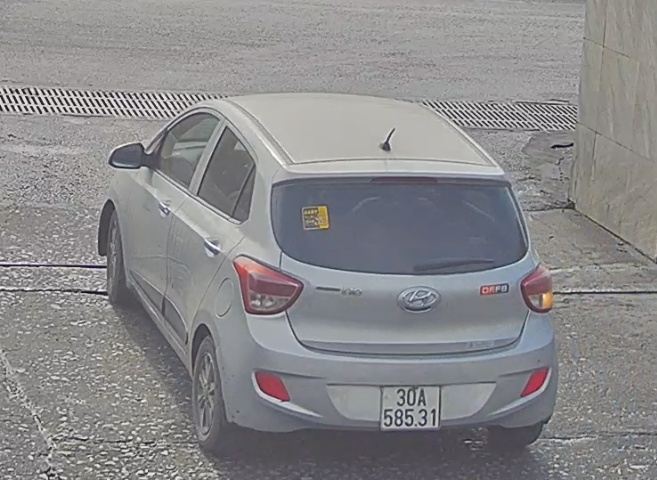vehicle plate: (378, 379, 444, 435)
